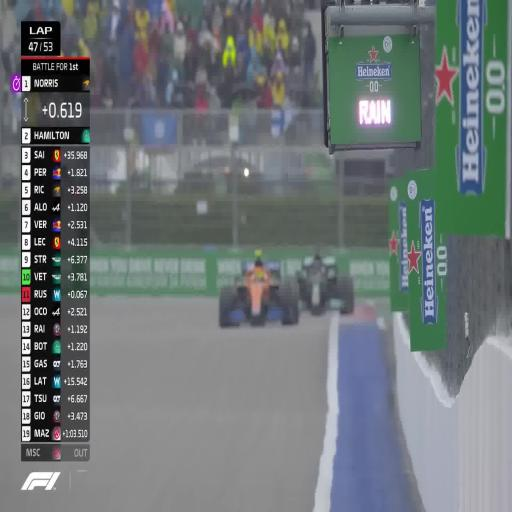f1_car: (219, 261, 299, 326), (297, 256, 354, 314)
